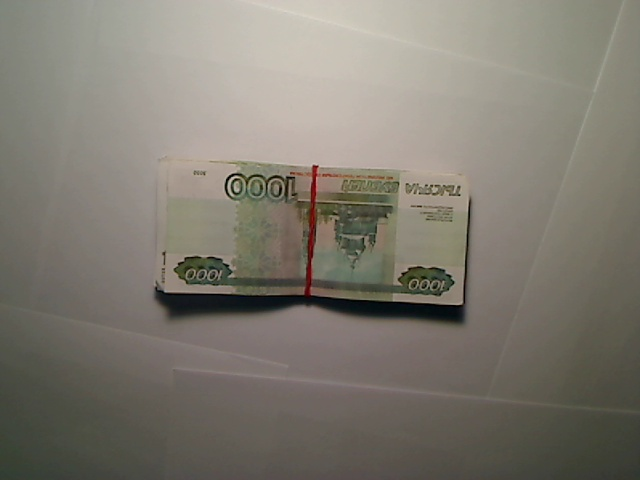banknotes: (151, 151, 474, 313)
